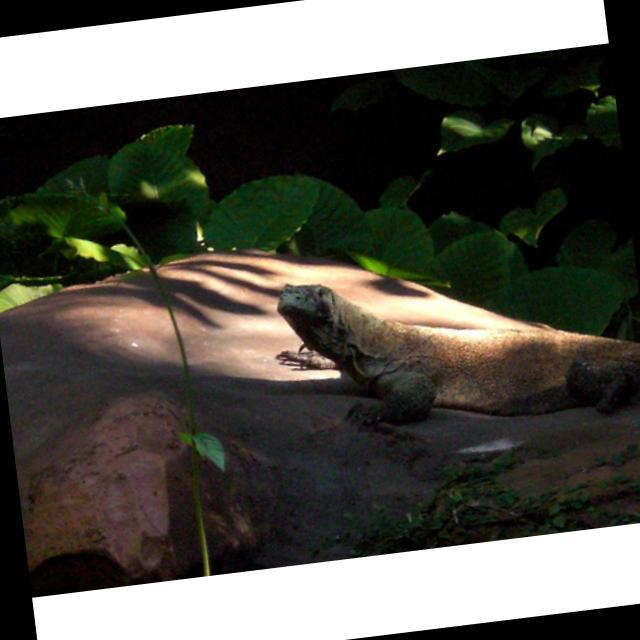KomodoDragon: (263, 239, 640, 428)
